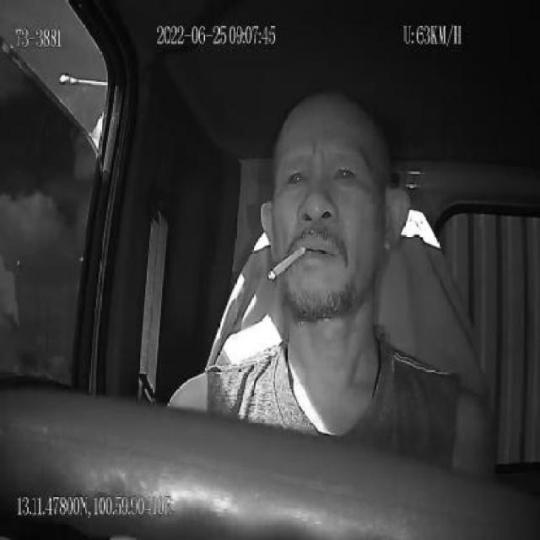smoking: (268, 247, 306, 283)
